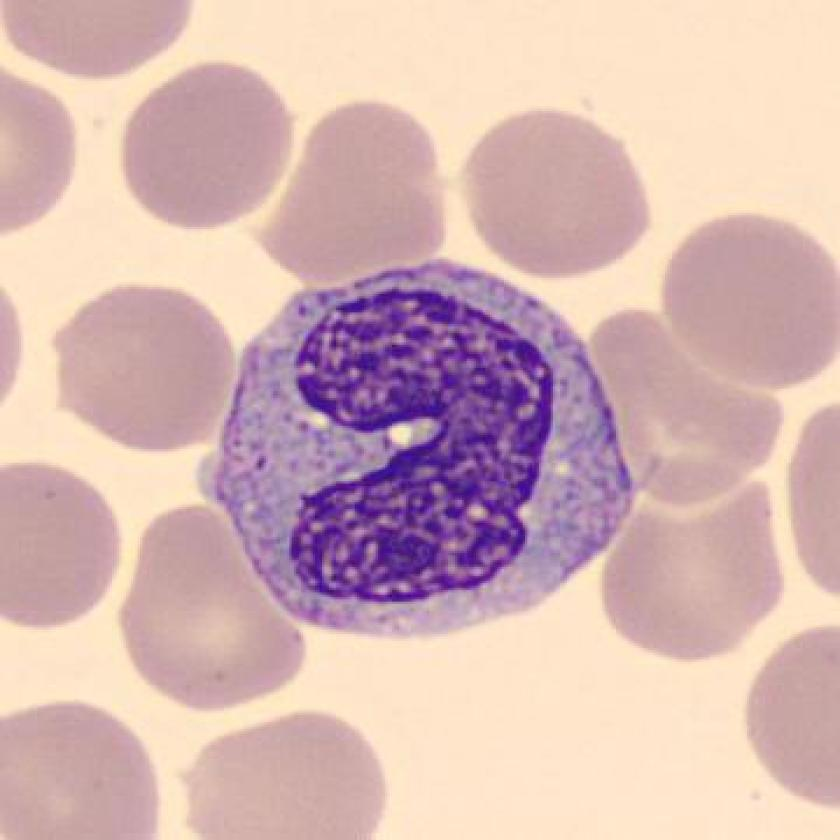monocyte: (176, 246, 654, 663)
